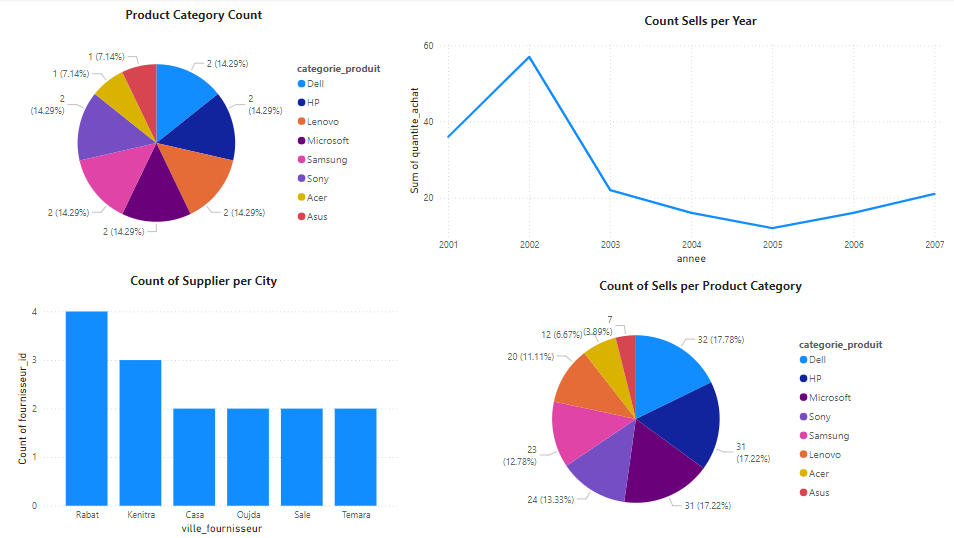

This screenshot's page, from the dashboard's own definition file:
{"tool":"powerbi","page":{"name":"Page 1","canvas":[1280,720],"ordinal":0},"visuals":[{"type":"pieChart","fields":{"Y":["CountNonNull(bi_data_warehouse dim_produit.categorie_produit)"],"Category":["bi_data_warehouse dim_produit.categorie_produit"]},"box":[18.7,40,512,306.7],"z":0},{"type":"lineChart","fields":{"Category":["bi_data_warehouse dim_temps.annee"],"Y":["Sum(bi_data_warehouse dim_produit.quantite_achat)"]},"box":[541.3,49.3,725.3,310.7],"z":1000},{"type":"pieChart","fields":{"Y":["Sum(bi_data_warehouse dim_produit.quantite_achat)"],"Category":["bi_data_warehouse dim_produit.categorie_produit"]},"box":[628,404,572,314.7],"z":2000},{"type":"columnChart","fields":{"Category":["bi_data_warehouse dim_fournisseur.ville_fournisseur"],"Y":["CountNonNull(bi_data_warehouse dim_fournisseur.fournisseur_id)"]},"box":[18.7,404,521.3,316],"z":3000},{"type":"textbox","box":[110.7,5.3,300,34.7],"z":3001},{"type":"textbox","box":[786.7,13.3,300,36],"z":3002},{"type":"textbox","box":[726.7,366.7,420,34.7],"z":3003},{"type":"textbox","box":[98.7,360,350.7,33.3],"z":3004}]}

Visuals, with their boxes in screenshot pixels (x1, y1, x2, y2), scaled from the page's 1280x720 canvas onto the 954x538 screenshot:
pieChart - CountNonNull(bi_data_warehouse dim_produit.categorie_produit) x bi_data_warehouse dim_produit.categorie_produit: <region>14, 30, 396, 259</region>
lineChart - bi_data_warehouse dim_temps.annee x Sum(bi_data_warehouse dim_produit.quantite_achat): <region>403, 37, 944, 269</region>
pieChart - Sum(bi_data_warehouse dim_produit.quantite_achat) x bi_data_warehouse dim_produit.categorie_produit: <region>468, 302, 894, 537</region>
columnChart - bi_data_warehouse dim_fournisseur.ville_fournisseur x CountNonNull(bi_data_warehouse dim_fournisseur.fournisseur_id): <region>14, 302, 402, 537</region>
textbox: <region>83, 4, 306, 30</region>
textbox: <region>586, 10, 810, 37</region>
textbox: <region>542, 274, 855, 300</region>
textbox: <region>74, 269, 335, 294</region>
